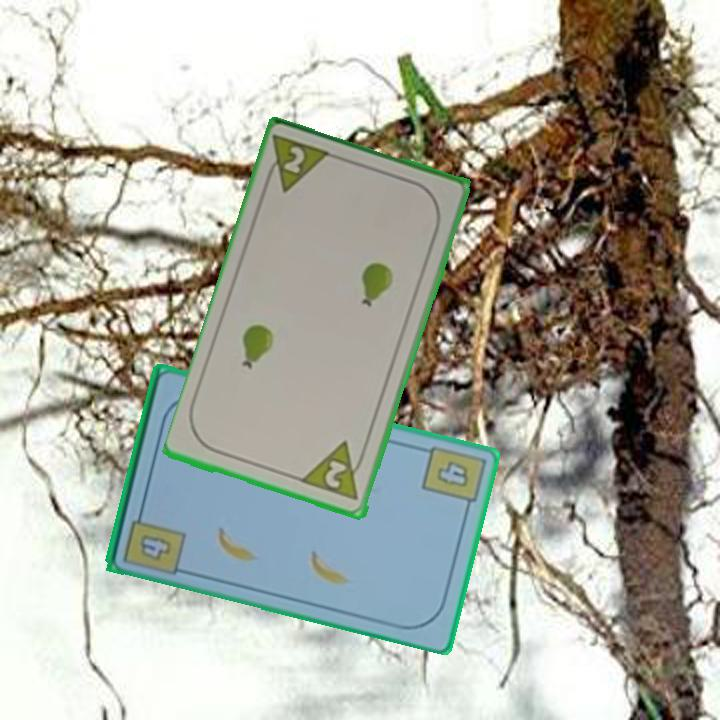2p: (260, 131, 335, 197), (300, 438, 370, 504)
4b: (418, 441, 487, 515), (136, 530, 175, 563)
